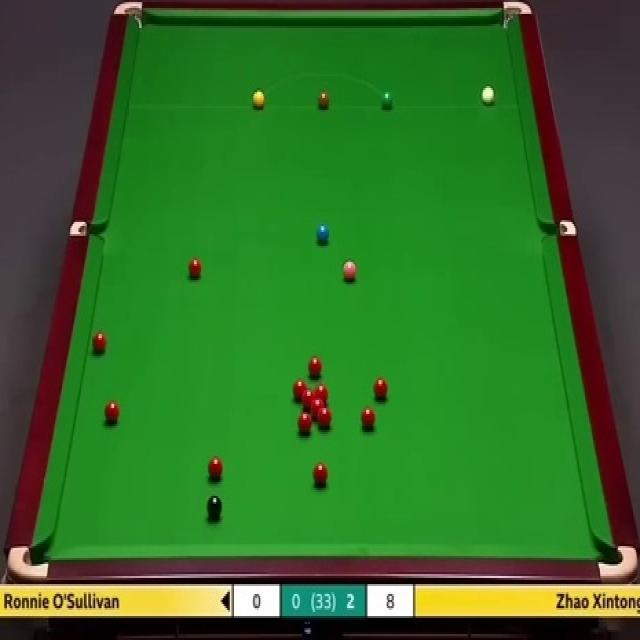pocket: (597, 537, 639, 580), (6, 544, 52, 582), (111, 0, 141, 32), (71, 220, 106, 238)
